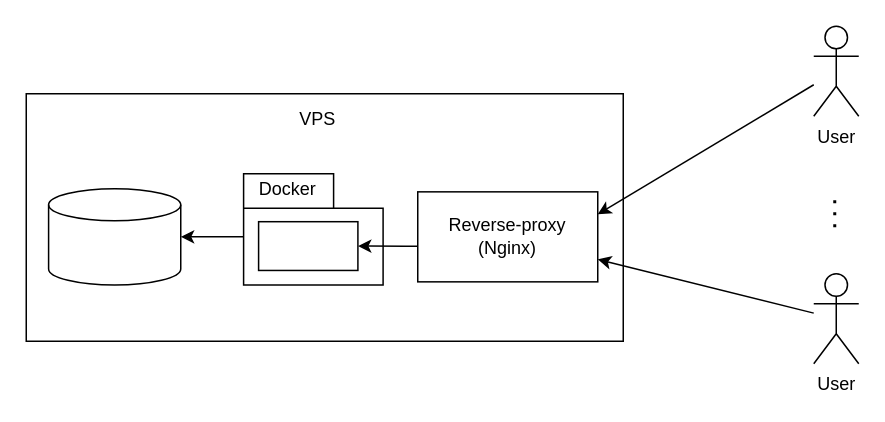
This 885x422 diagram has some shape labels left out. The centre of each missing label's shape, as x and y in pixels:
"Database" goes at (x=114, y=236).
"System" goes at (x=307, y=245).
